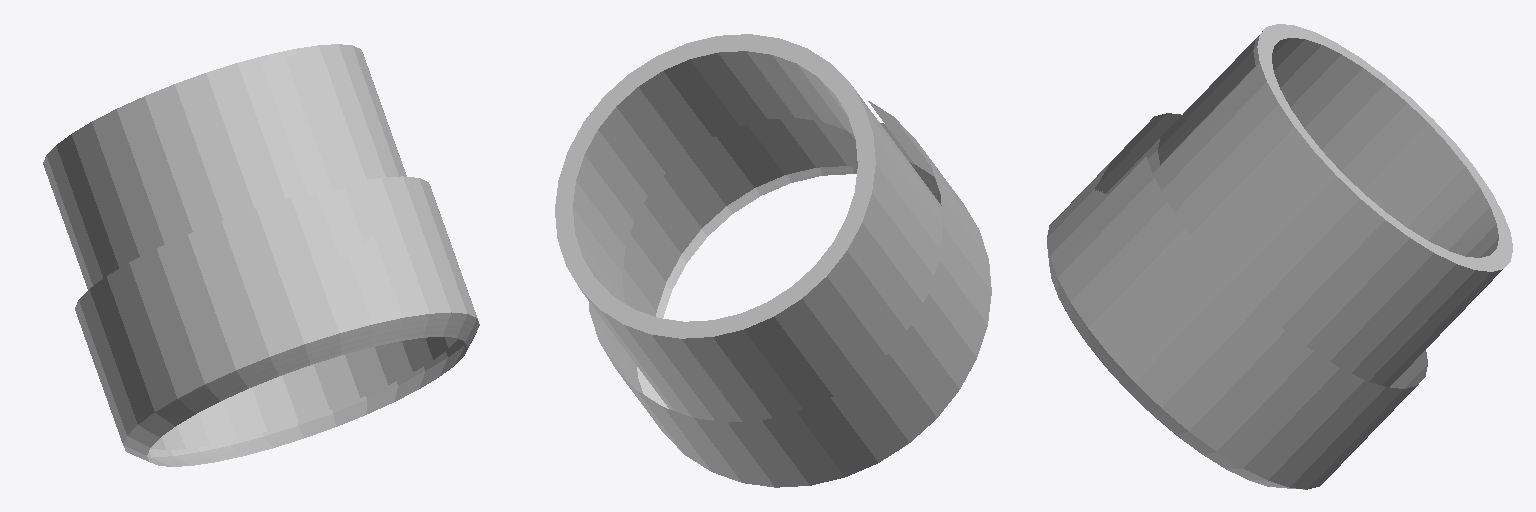
File: CleaningBar1.obj
The picture shows the model from 3 angles: view 1: azimuth 30°, elevation 25°; view 2: azimuth 150°, elevation 25°; view 3: azimuth 270°, elevation 25°; orthographic projection.
Visible parts, largest first — view 1: CleaningBarTop_Cylinder.016; view 2: CleaningBarTop_Cylinder.016; view 3: CleaningBarTop_Cylinder.016.
Part boxes in pixels (x1,y1,x2,y2): CleaningBarTop_Cylinder.016: (43,44,479,466); CleaningBarTop_Cylinder.016: (555,34,991,487); CleaningBarTop_Cylinder.016: (1047,24,1512,489).
Size of the model in its own units: 0.25 by 0.3058 by 0.3088.